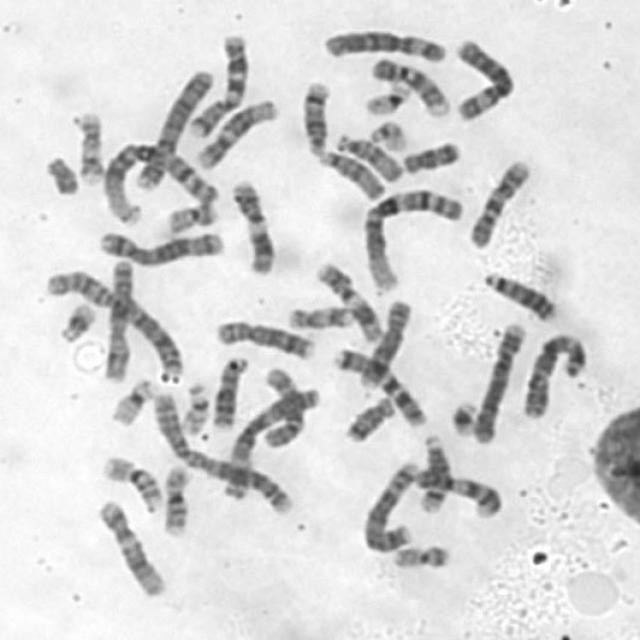A1: (357, 181, 467, 294), (98, 134, 222, 226)
A2: (146, 384, 298, 515), (40, 262, 189, 383)
A3: (218, 379, 322, 503), (516, 326, 591, 421)
B4: (131, 61, 218, 193), (467, 316, 528, 445)
B5: (358, 454, 423, 555), (93, 222, 227, 266)
C10: (463, 152, 535, 252), (258, 361, 310, 451)
C11: (309, 256, 386, 345), (226, 174, 279, 277)
C12: (92, 492, 170, 598), (192, 91, 282, 171)
C6: (449, 31, 517, 122), (318, 23, 451, 65)
C7: (327, 341, 430, 429), (184, 27, 253, 138)
C8: (354, 293, 415, 389), (210, 314, 319, 361)
C9: (366, 52, 452, 118), (411, 465, 506, 520)
D13: (478, 265, 560, 323), (207, 350, 251, 430)
D14: (414, 429, 452, 514), (296, 75, 334, 156)
D15: (331, 126, 408, 183), (314, 144, 387, 202)
E16: (98, 449, 168, 512), (157, 458, 195, 537)
E17: (69, 104, 108, 185), (283, 299, 356, 331)
E18: (339, 390, 398, 444), (397, 135, 464, 175)
F19: (105, 371, 160, 428), (360, 75, 415, 116)
F20: (160, 195, 221, 235), (388, 538, 453, 571)
G21: (53, 295, 99, 345), (445, 394, 480, 438)
G22: (176, 377, 213, 436), (364, 114, 412, 152)
X: (100, 252, 137, 383)
Y: (40, 148, 83, 197)
